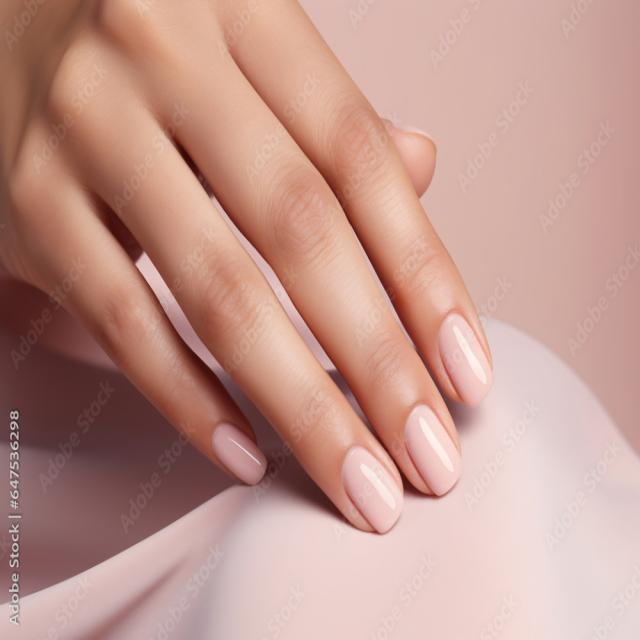Fingernail: (404, 406, 460, 495), (342, 448, 400, 532), (440, 314, 490, 404), (213, 423, 265, 484)
